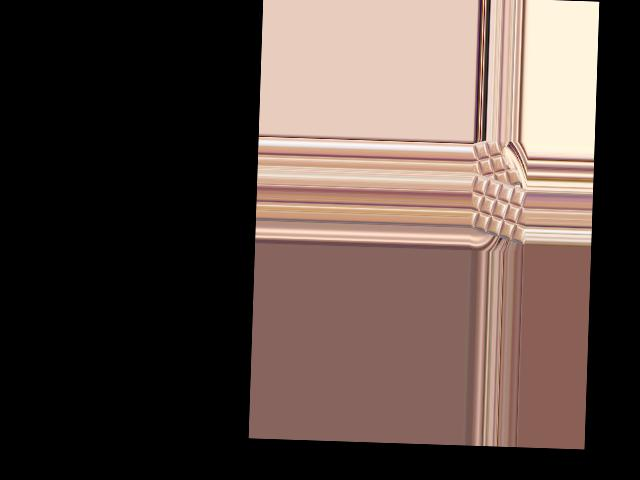chocolate: (469, 171, 526, 245)
